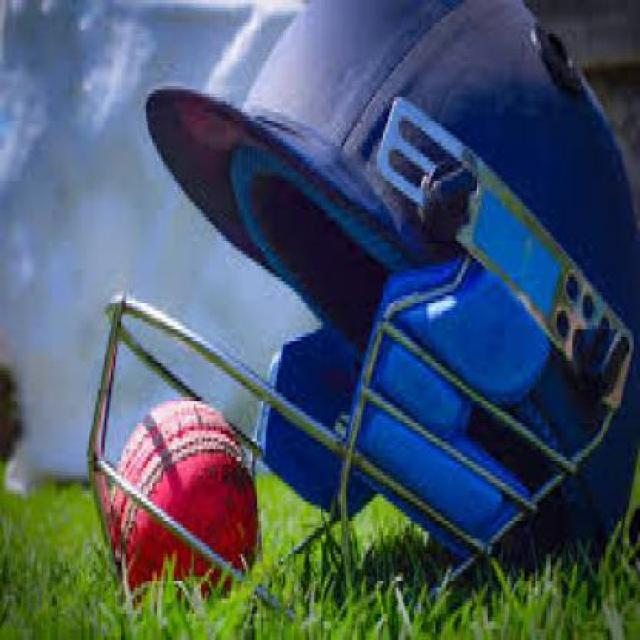ball: (75, 362, 312, 594)
